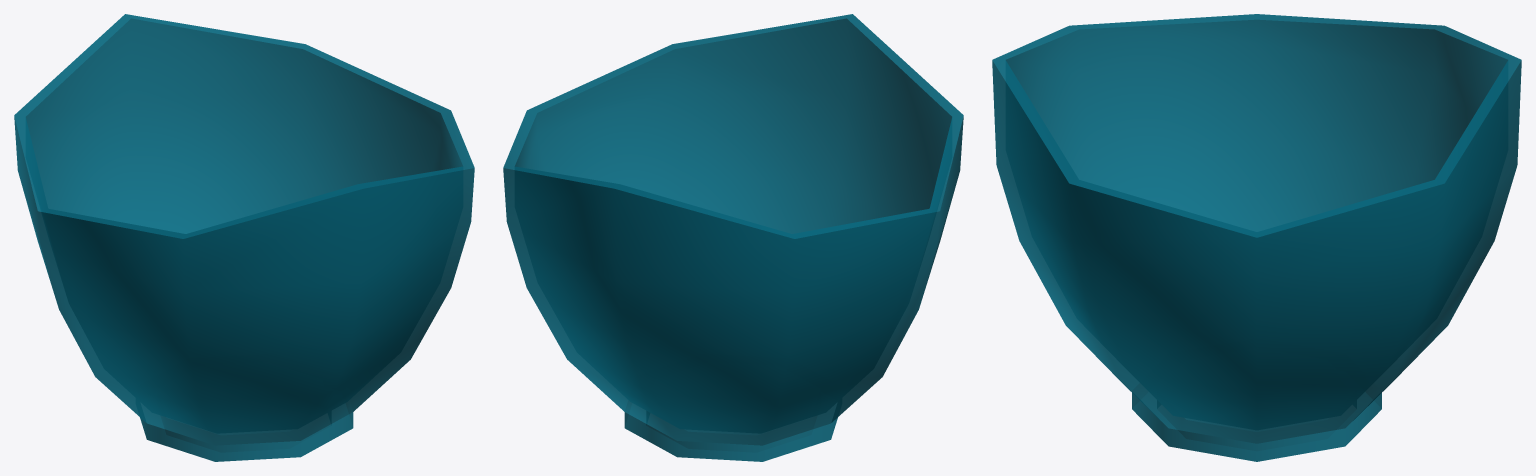
The model's file is serving_bowl_1_001.glb.
The picture shows the model from 3 angles, left to right: view 1: azimuth 30°, elevation 25°; view 2: azimuth 150°, elevation 25°; view 3: azimuth 270°, elevation 25°; orthographic projection. The views are drawn at different scales.
Visible parts, largest first — view 1: serving bowl 1.001; view 2: serving bowl 1.001; view 3: serving bowl 1.001.
Boxes of the visible parts, <box> form: serving bowl 1.001: <box>14,14,474,461</box>; serving bowl 1.001: <box>503,14,963,461</box>; serving bowl 1.001: <box>992,14,1521,461</box>.
Size of the model in its own units: 2.87 by 2.09 by 2.87.
Materials: 1 (1 with a texture image).
